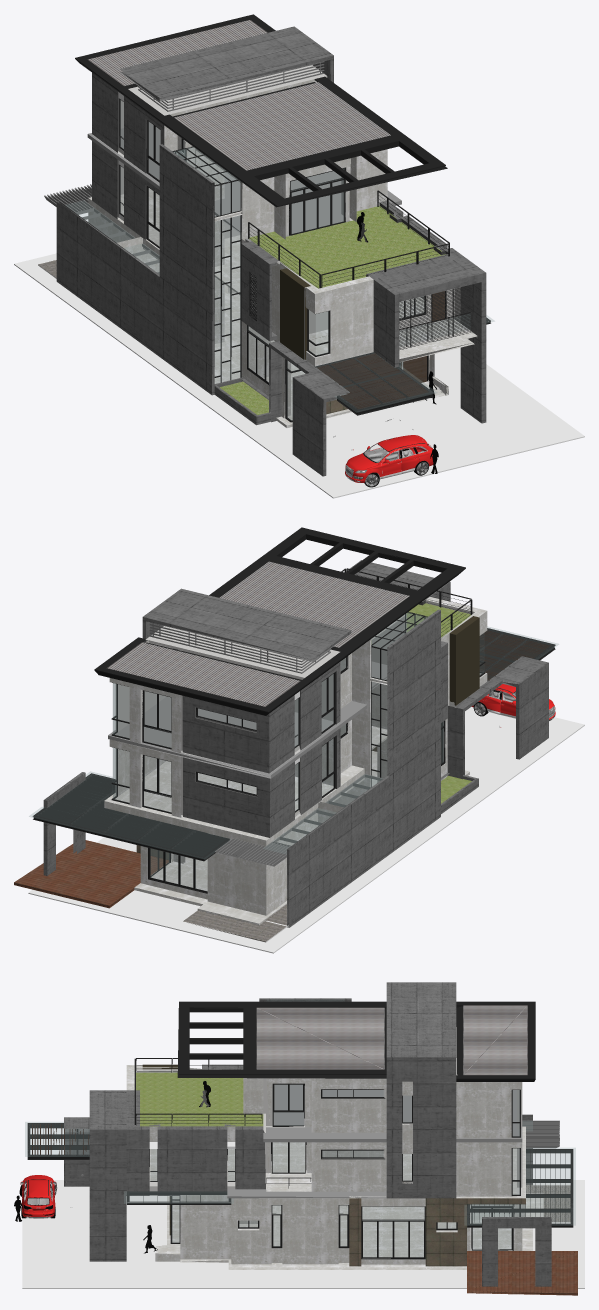
The model's file is high_density.glb.
The picture shows the model from 3 angles, top to bottom: view 1: azimuth 30°, elevation 25°; view 2: azimuth 150°, elevation 25°; view 3: azimuth 270°, elevation 25°; orthographic projection. The views are drawn at different scales.
Visible parts, largest first — view 1: G-__581610_1_554, G-Stage_0_1590, G-__586650_1_1542, G-__580620_0_375, G-Top_0_1592, Sketchup_1_1605, G-__586650_0_1541, G-__581601_0_551, G-__581637_0_560, G-__581655_0_567, G-__584328_0_1071, G-__580809_0_407 (+29 smaller); view 2: G-__581610_1_554, G-Stage_0_1590, G-__580710_0_392, G-__581592_0_549, G-__581664_0_569, G-Top_0_1592, G-__586650_1_1542, G-__582447_0_725, G-__580638_1_380, G-__581583_0_545, G-__583617_0_927, G-__586650_0_1541 (+27 smaller); view 3: G-Stage_0_1590, G-Top_0_1592, G-__581673_0_571, G-__580710_0_392, G-__586650_1_1542, G-__586758_0_1560, G-__580620_0_375, Sketchup_1_1605, G-__581601_0_551, G-__586650_0_1541, G-__581655_0_567, G-__582447_0_725 (+38 smaller).
Part boxes in pixels (x1,y1,x2,y2): G-__581610_1_554: (56,144,214,395); G-Stage_0_1590: (14,253,584,498); G-__586650_1_1542: (174,82,390,170); G-__580620_0_375: (373,257,486,423); G-Top_0_1592: (120,26,333,101); Sketchup_1_1605: (249,206,445,288); G-__586650_0_1541: (156,76,445,206); G-__581601_0_551: (164,76,387,239); G-__581637_0_560: (269,340,349,476); G-__581655_0_567: (117,160,444,366); G-__584328_0_1071: (87,122,401,290); G-__580809_0_407: (315,352,437,412); G-__581610_1_554: (287,609,440,927); G-Stage_0_1590: (28,707,584,953); G-__580710_0_392: (104,701,456,915); G-__581592_0_549: (182,662,340,773); G-__581664_0_569: (183,728,340,837); G-Top_0_1592: (142,588,351,661); G-__586650_1_1542: (219,561,409,647); G-__582447_0_725: (29,771,230,859); G-__580638_1_380: (107,642,300,706); G-__581583_0_545: (118,617,404,772); G-__583617_0_927: (14,840,168,908); G-__586650_0_1541: (209,527,465,654); G-Stage_0_1590: (22,1180,584,1288); G-Top_0_1592: (386,982,456,1198); G-__581673_0_571: (126,1090,265,1195); G-__580710_0_392: (180,1126,525,1264); G-__586650_1_1542: (256,1007,384,1069); G-__586758_0_1560: (167,1193,543,1269); G-__580620_0_375: (89,1090,126,1261); Sketchup_1_1605: (136,1072,263,1126); G-__581601_0_551: (243,1078,522,1138); G-__586650_0_1541: (179,1001,386,1074); G-__581655_0_567: (126,1065,522,1196); G-__582447_0_725: (464,1148,575,1225).
Bounding box in the file's own units: 15.38 × 13.2 × 31.96.
Materials: 59 (9 with a texture image).
